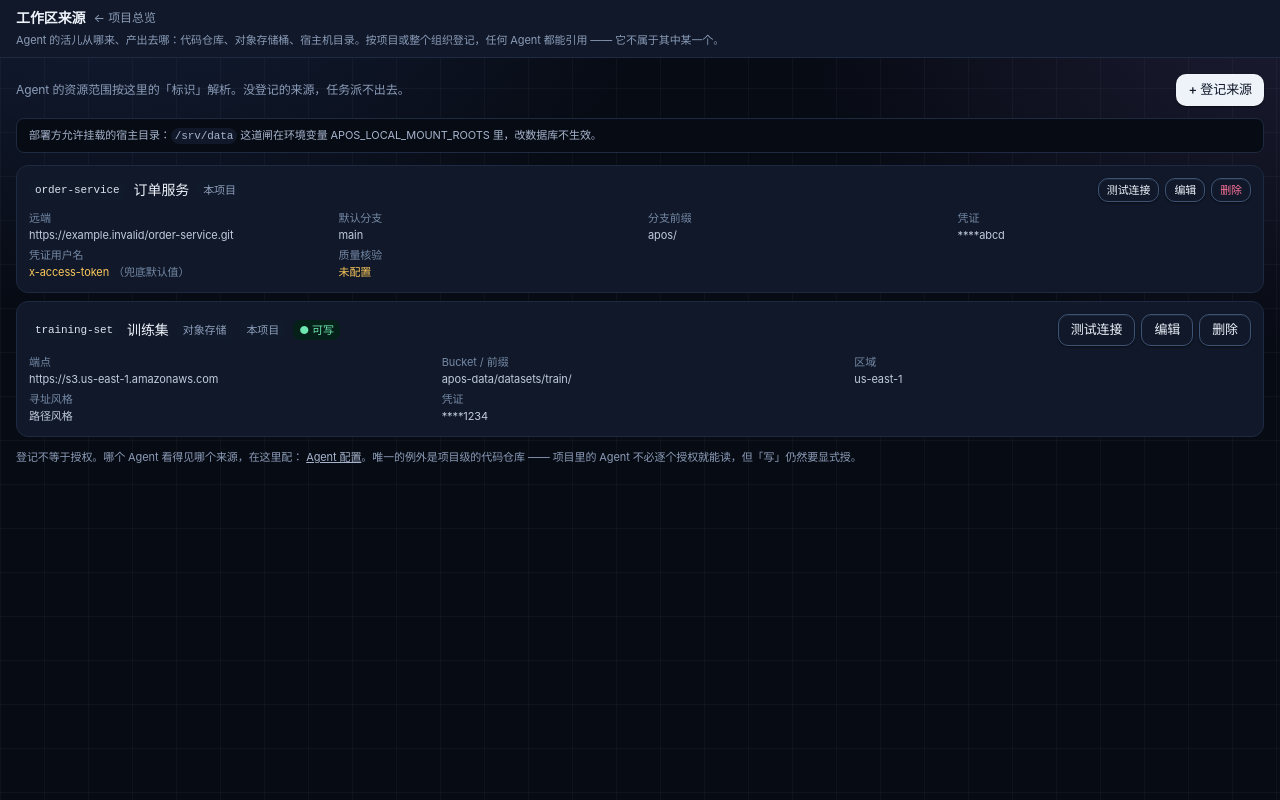
工作区来源是一页一张列表 › 登记入口先问类型，三类都列出来
Step 1. Click the button "+ 登记来源" → (1220, 90), box [1176,74,1264,106]
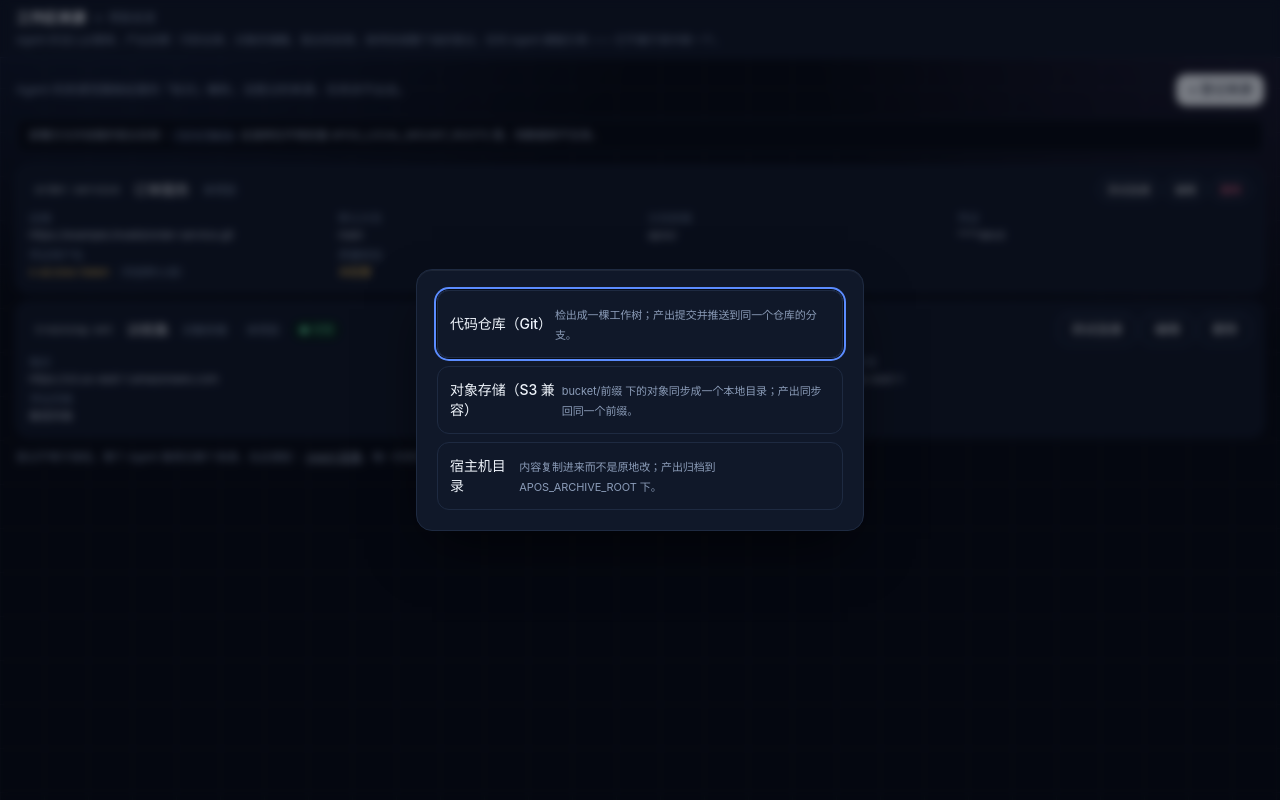
Expected: the text "代码仓库（Git）" is shown, [450,314,549,334]
Expected: the text "对象存储（S3 兼容）" is shown, [450,380,556,420]
Expected: the text "宿主机目录" is shown, [450,456,513,496]
